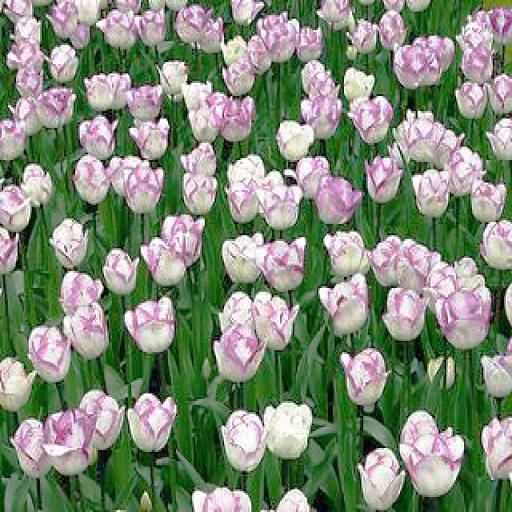tulip: (400, 410, 464, 497), (438, 271, 492, 348), (40, 408, 99, 472), (124, 294, 178, 354), (318, 273, 368, 335), (213, 324, 267, 380), (256, 231, 307, 290), (341, 346, 392, 405), (128, 392, 176, 454), (220, 408, 266, 472), (382, 282, 429, 342), (360, 446, 403, 510), (262, 403, 312, 457), (254, 292, 300, 350), (26, 328, 75, 380), (64, 301, 109, 354), (141, 236, 190, 284), (316, 175, 362, 226), (348, 94, 394, 143), (221, 230, 262, 284), (322, 228, 371, 273), (213, 94, 259, 141), (120, 164, 165, 211), (480, 416, 512, 482), (408, 170, 451, 216), (50, 218, 88, 270), (363, 152, 402, 202), (261, 182, 302, 228), (102, 246, 142, 292), (302, 92, 342, 138), (70, 156, 110, 202), (224, 177, 264, 220), (468, 177, 506, 222), (270, 120, 312, 160), (35, 87, 75, 128), (77, 117, 118, 156), (128, 120, 171, 156), (182, 171, 216, 211), (84, 70, 118, 109), (456, 81, 483, 117)
